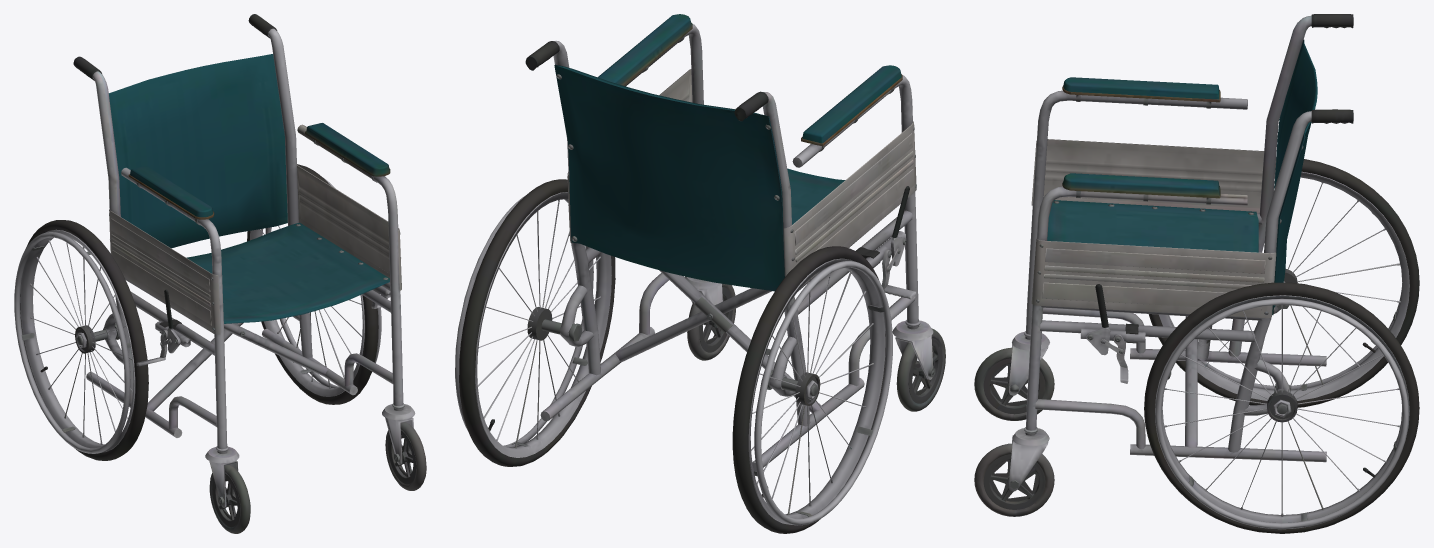
Rendered from wheelchair_01.glb.
3 renders of one model, left to right at view 1: azimuth 30°, elevation 25°; view 2: azimuth 150°, elevation 25°; view 3: azimuth 270°, elevation 25°, orthographic. The views are drawn at different scales.
Visible parts, largest first — view 1: wheelchair_01; view 2: wheelchair_01; view 3: wheelchair_01.
Part boxes in pixels (x1=…): wheelchair_01: x1=14, y1=14, x2=426, y2=533; wheelchair_01: x1=455, y1=14, x2=945, y2=533; wheelchair_01: x1=974, y1=14, x2=1419, y2=533.
Size of the model in its own units: 0.8241 by 1.1 by 1.09.
Materials: 1 (1 with a texture image).
